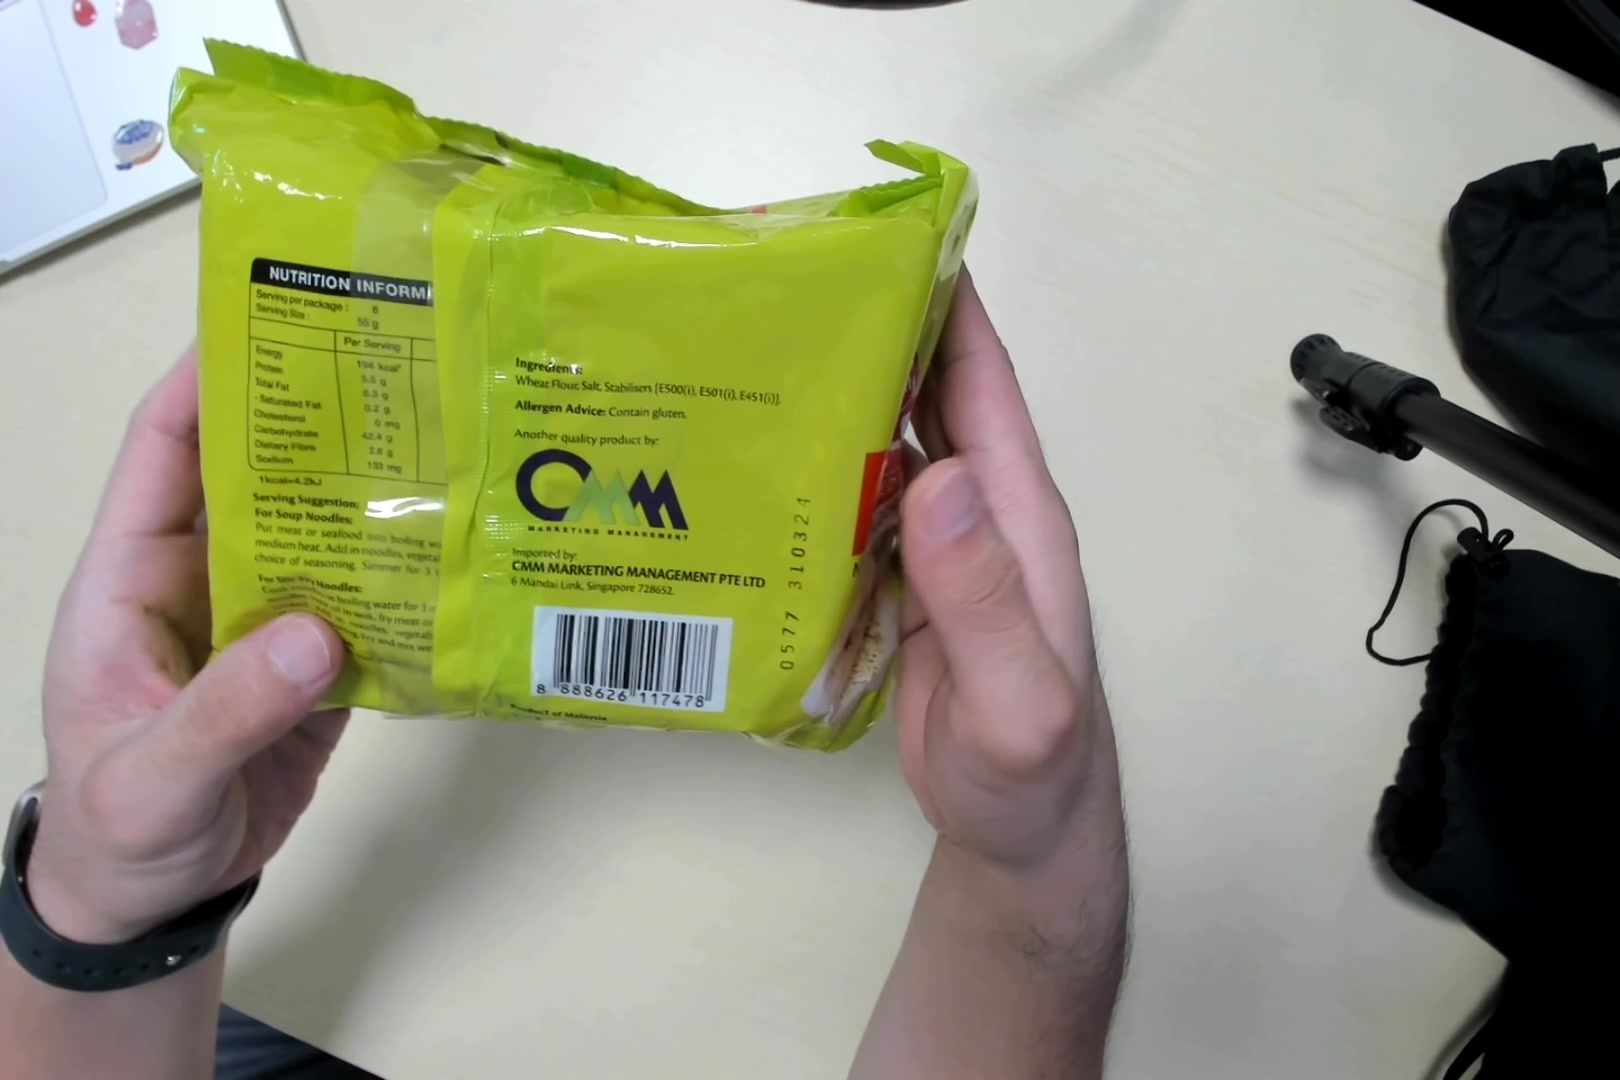OtherNoodles_300-399g_Halal_NonHealthy: (200, 90, 933, 742)
